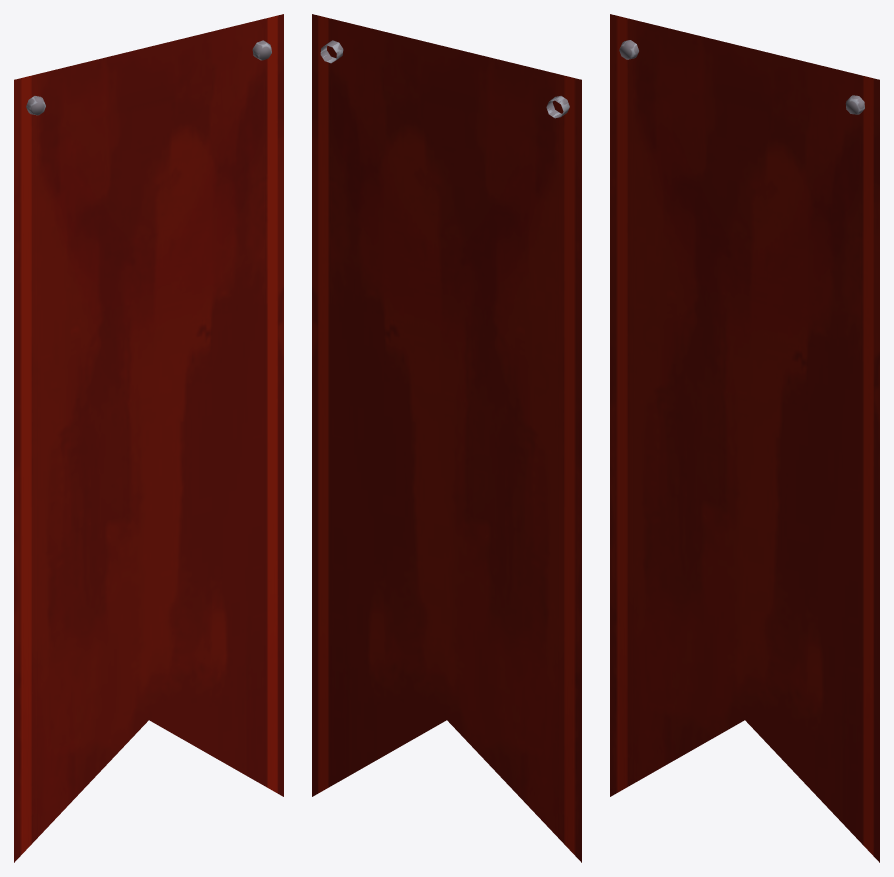
The model's file is banner_1_cloth.gltf.
The picture shows the model from 3 angles, left to right: view 1: azimuth 30°, elevation 25°; view 2: azimuth 150°, elevation 25°; view 3: azimuth 330°, elevation 25°; orthographic projection.
Visible parts, largest first — view 1: Banner_1_Cloth; view 2: Banner_1_Cloth; view 3: Banner_1_Cloth.
Part boxes in pixels (<box>): Banner_1_Cloth: <box>14,14,283,862</box>; Banner_1_Cloth: <box>312,14,581,862</box>; Banner_1_Cloth: <box>610,14,879,862</box>.
Bounding box in the file's own units: 0.8102 × 2.25 × 0.0568.
2 materials, 2 textured.
